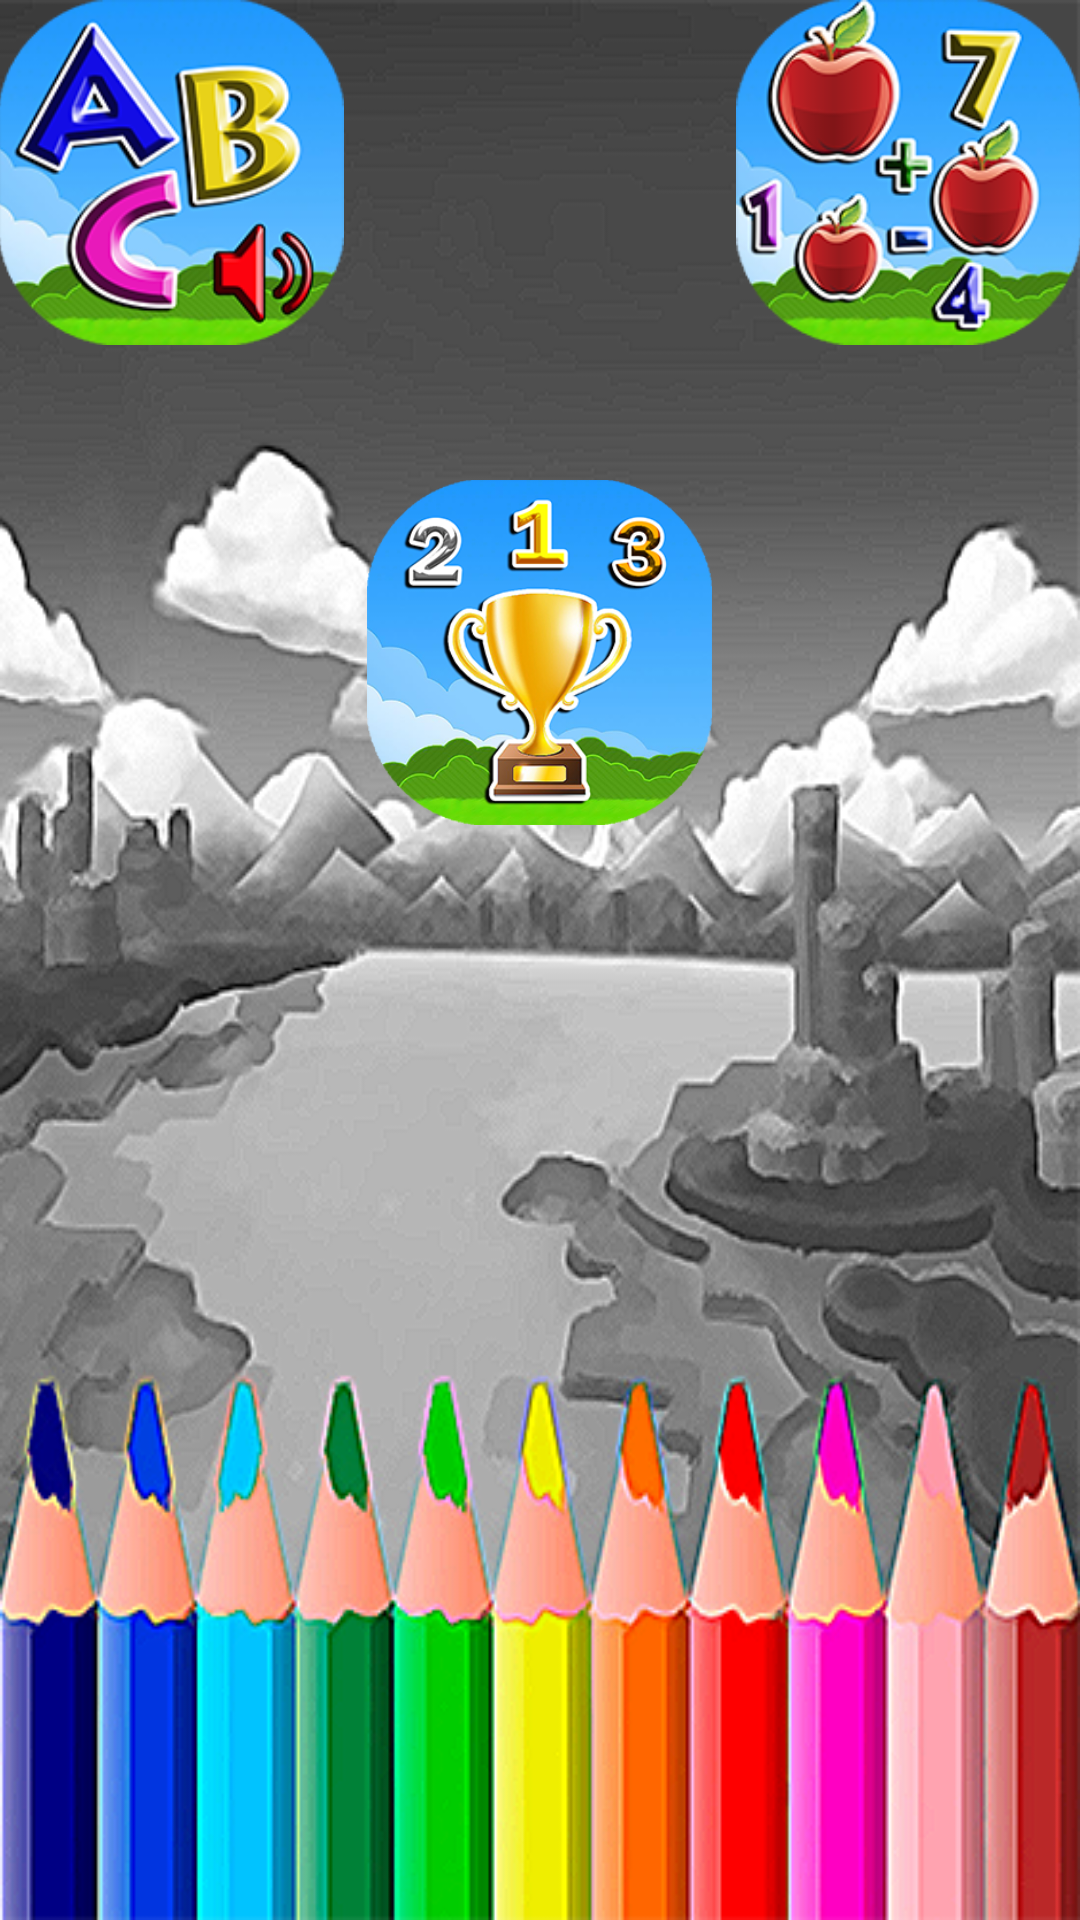

Where to tap for icons on this 1080×1920 app screen, as (x,y):
layout botao alfabeto: (172,172)
layout botao matematica: (908,172)
layout botao ranking: (539,652)
